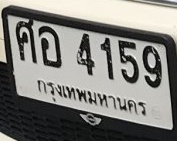txt33: (15, 18, 37, 64)
txt38: (37, 24, 63, 70)
